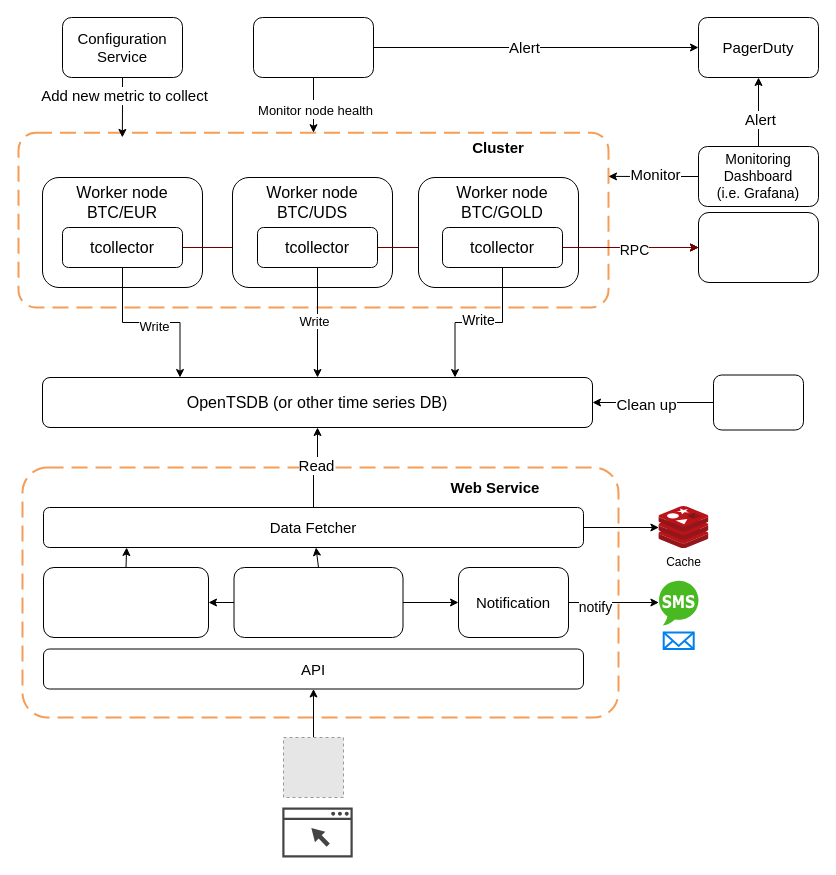
The diagram is 836 pixels wide and 875 high, and some of its shapes have lost their labels. Grey dashed boxes stand in for pictures. Each missing label, with the centre of its shape:
CryptoWat REST API: the point at 758,247
Data Checker (i.e. compare with a threshold): the point at 318,602
Data Processor (i.e. aggregation): the point at 125,602
Data Purge: the point at 758,402
ZooKeeper: the point at 313,47
